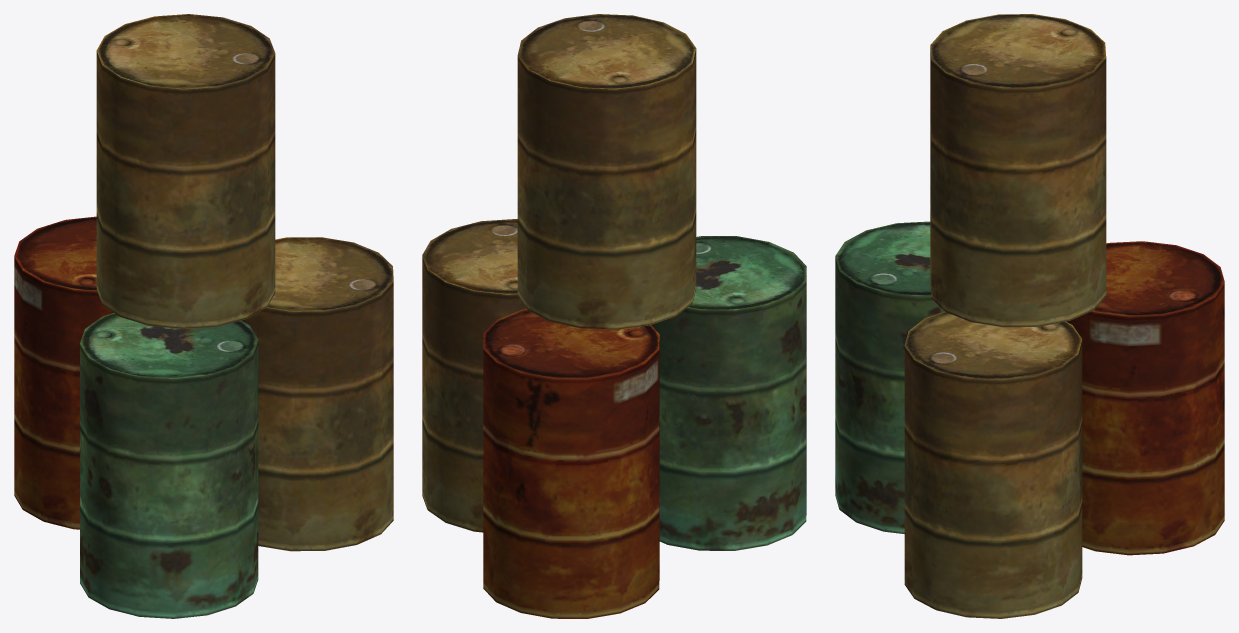
Rendered from od_stack_of_four_upright_1.fbx.
3 views of the same model, side by side, from view 1: azimuth 30°, elevation 25°; view 2: azimuth 150°, elevation 25°; view 3: azimuth 270°, elevation 25° (orthographic).
Visible parts, largest first — view 1: mesh_0, mesh_1, mesh_2; view 2: mesh_0, mesh_2, mesh_1; view 3: mesh_0, mesh_2, mesh_1.
Boxes of the visible parts, bbox=[...] form: mesh_0: bbox=[96, 14, 393, 551]; mesh_1: bbox=[80, 313, 258, 618]; mesh_2: bbox=[14, 216, 113, 529]; mesh_0: bbox=[422, 14, 696, 532]; mesh_2: bbox=[483, 308, 659, 618]; mesh_1: bbox=[651, 236, 806, 550]; mesh_0: bbox=[904, 14, 1106, 618]; mesh_2: bbox=[1067, 241, 1224, 555]; mesh_1: bbox=[835, 221, 944, 533].
Size of the model in its own units: 125 by 177 by 130.
Materials: 3 (3 with a texture image).
